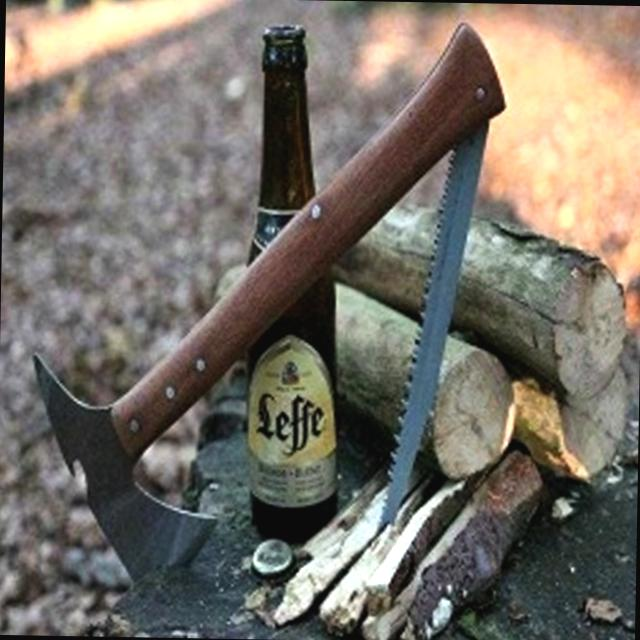ax: (16, 12, 528, 612)
